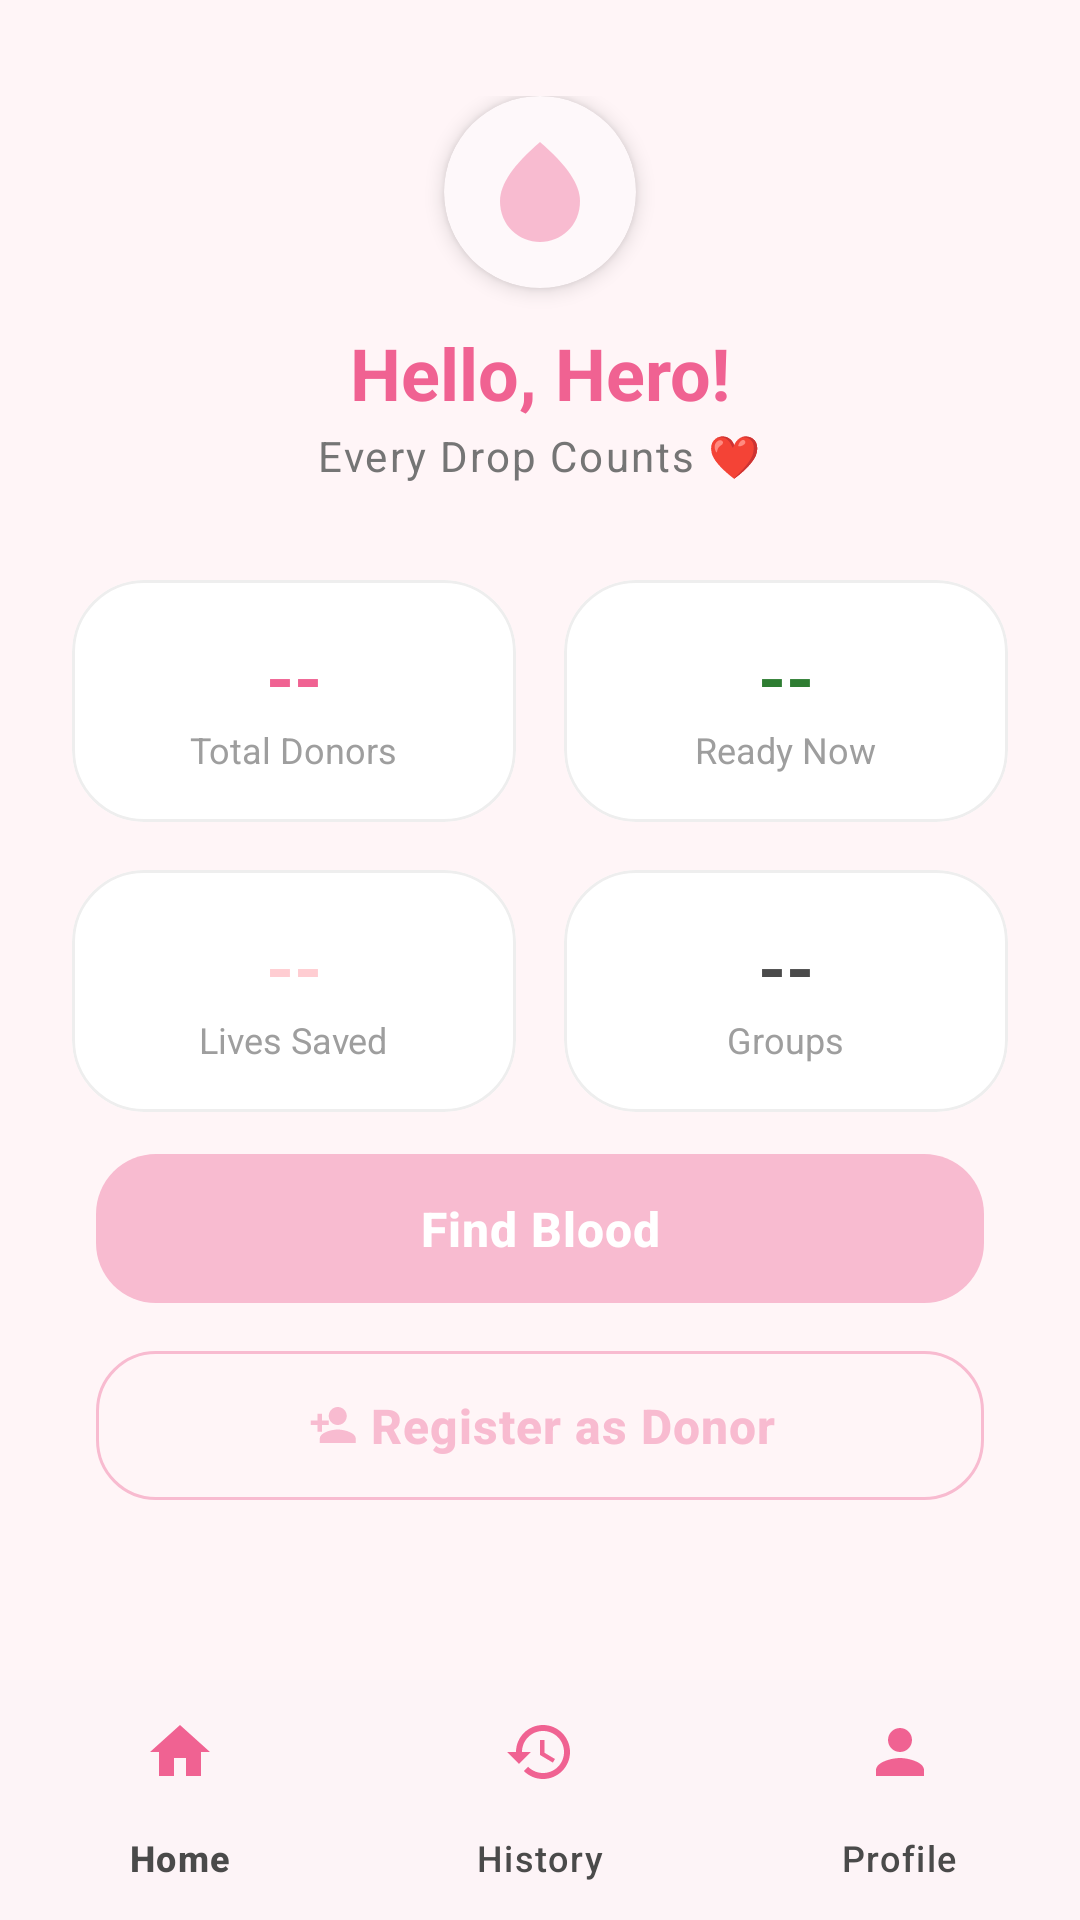

Named icons in this screenshot (1080x1920) and their bounding boxes, region(x1, y1, x2, y2):
blood drop: region(500, 142, 580, 242)
